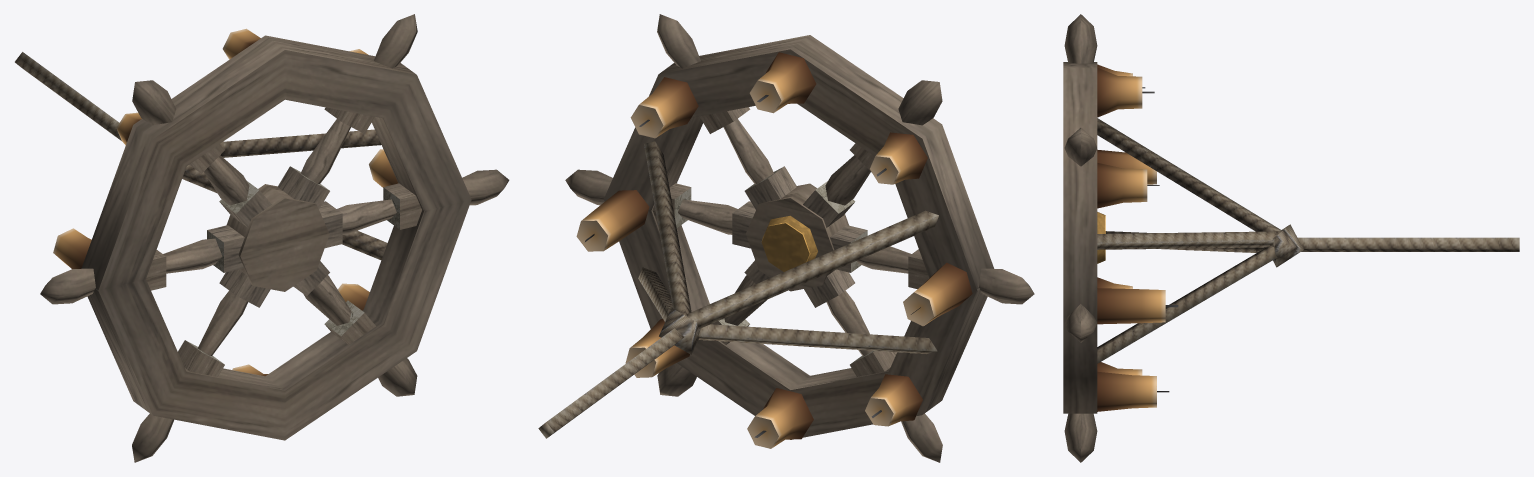
File: Boat_Wheel_Chandelier.fbx
3 renders of one model, left to right at view 1: azimuth 30°, elevation 25°; view 2: azimuth 150°, elevation 25°; view 3: azimuth 270°, elevation 25°, orthographic. The views are drawn at different scales.
Parts seen in each view (by area): view 1: Boat_Wheel_Chandelier; view 2: Boat_Wheel_Chandelier; view 3: Boat_Wheel_Chandelier.
Boxes of the visible parts, x1=… form: Boat_Wheel_Chandelier: x1=15, y1=14, x2=509, y2=462; Boat_Wheel_Chandelier: x1=538, y1=14, x2=1034, y2=462; Boat_Wheel_Chandelier: x1=1063, y1=14, x2=1519, y2=462.
Size of the model in its own units: 2.04 by 1.62 by 1.98.
